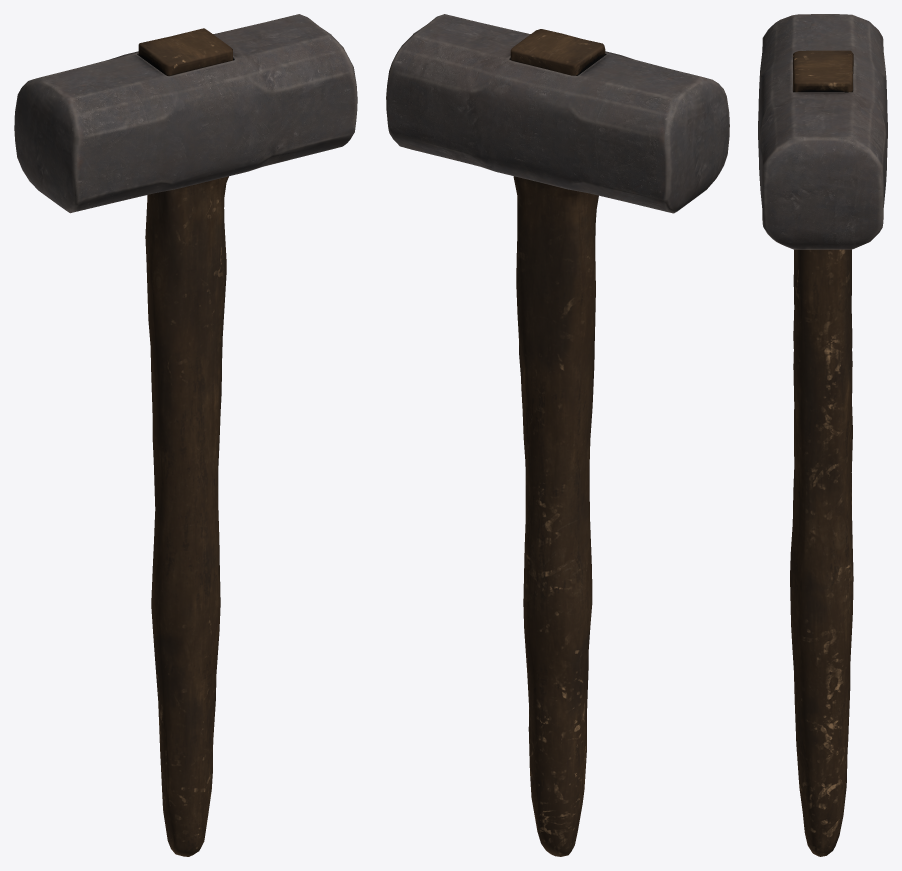
The model's file is marteau.glb.
3 views of the same model, side by side, from view 1: azimuth 30°, elevation 25°; view 2: azimuth 150°, elevation 25°; view 3: azimuth 270°, elevation 25° (orthographic). The views are drawn at different scales.
Visible parts, largest first — view 1: Hammer_02; view 2: Hammer_02; view 3: Hammer_02.
Part boxes in pixels (x1,y1,x2,y2): Hammer_02: (14, 14, 357, 856); Hammer_02: (386, 14, 729, 856); Hammer_02: (758, 14, 887, 856).
Size of the model in its own units: 0.1119 by 0.3003 by 0.0448.
Materials: 1 (1 with a texture image).
